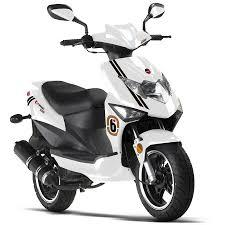motorcycle: (0, 3, 201, 218)
